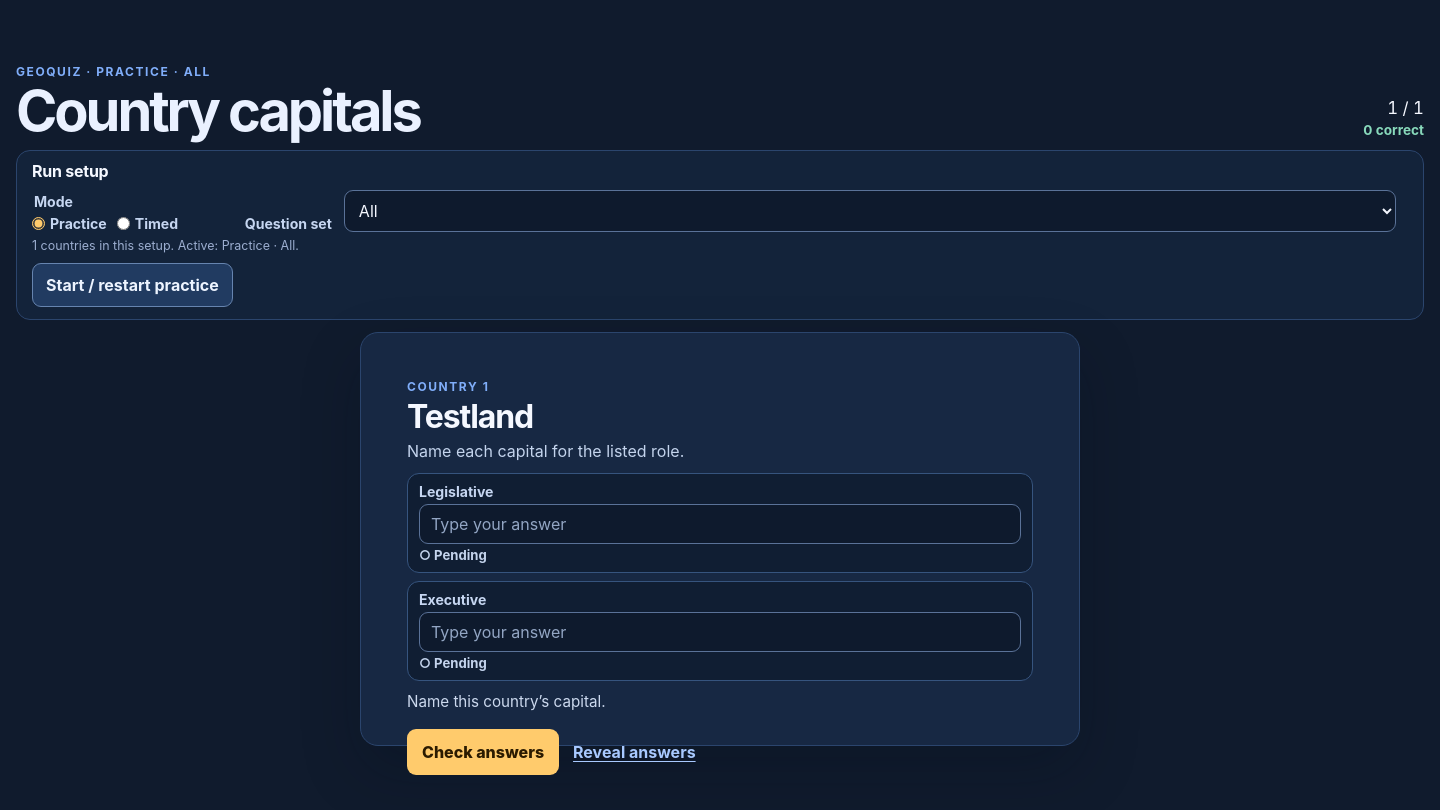
Test: CountryCapitalQuiz › submits Practice fields through their native form with Enter
The image size is (1440, 810).
Type "Alpha City" into the field labelled "Legislative" at [720, 524], box [419,504,1021,544]
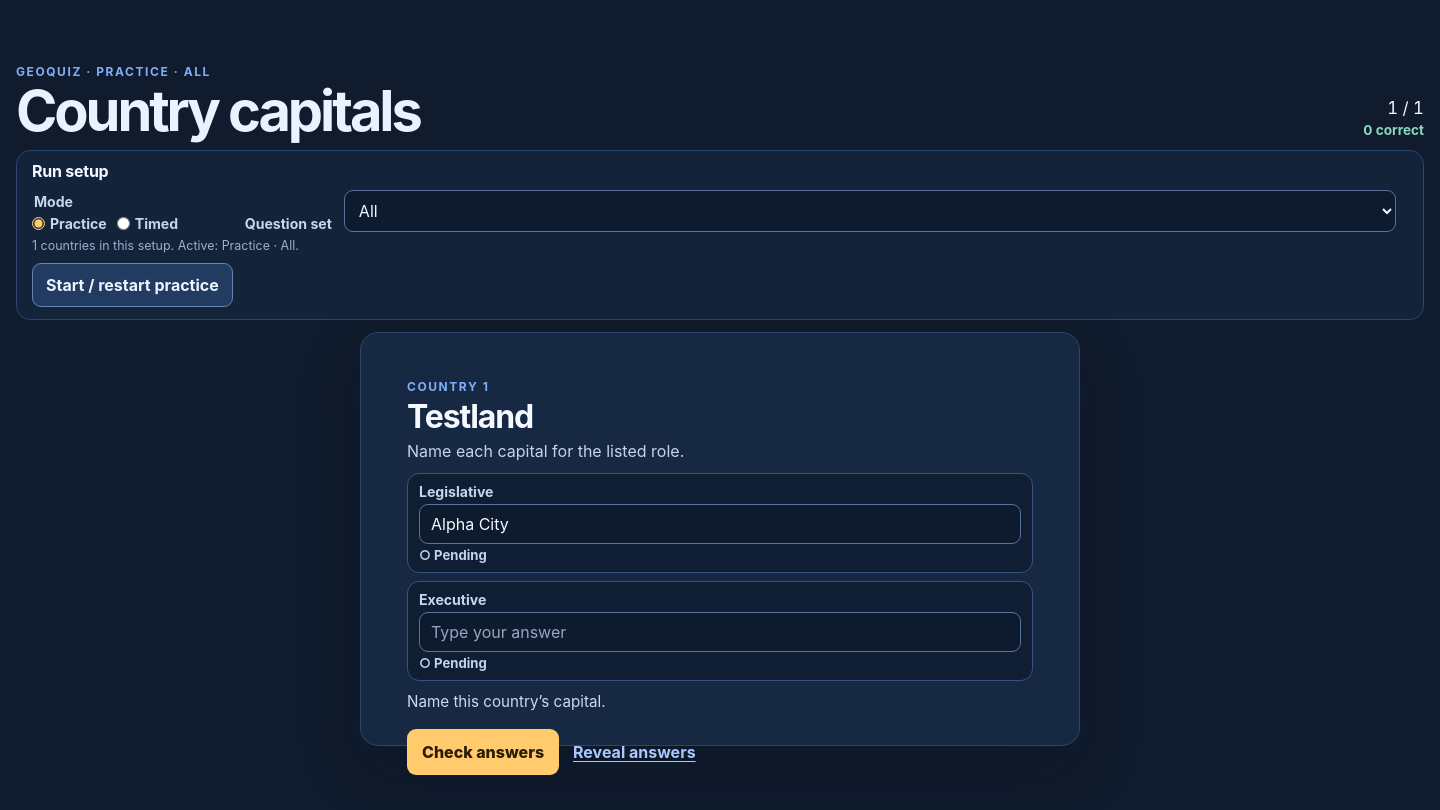
Submit the form, box [407,473,1033,775]
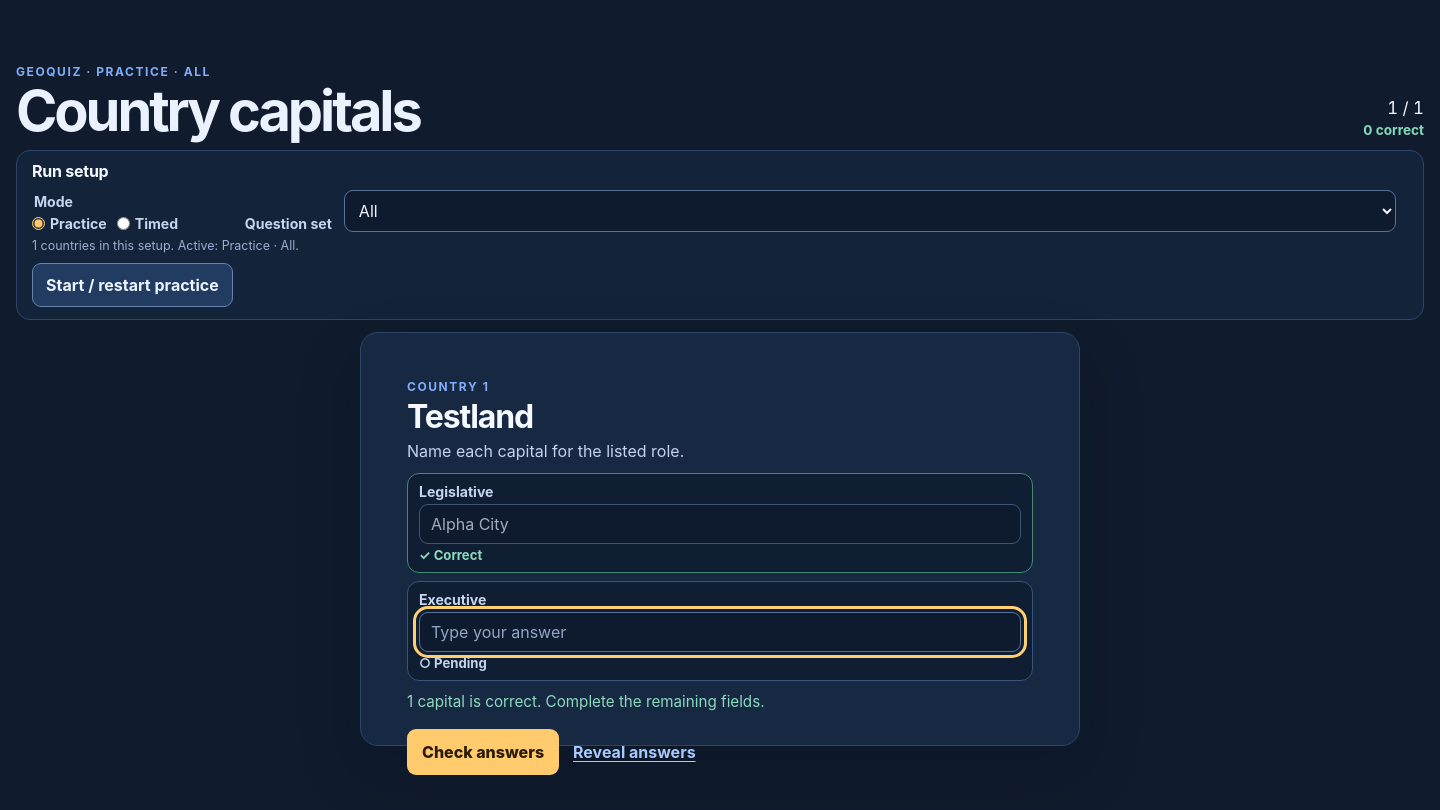
Result: the field labelled "Legislative" is disabled at [419,504,1021,544]
Result: the text "1 capital is correct. Complete the remaining fields." is shown at [407,692,764,711]
